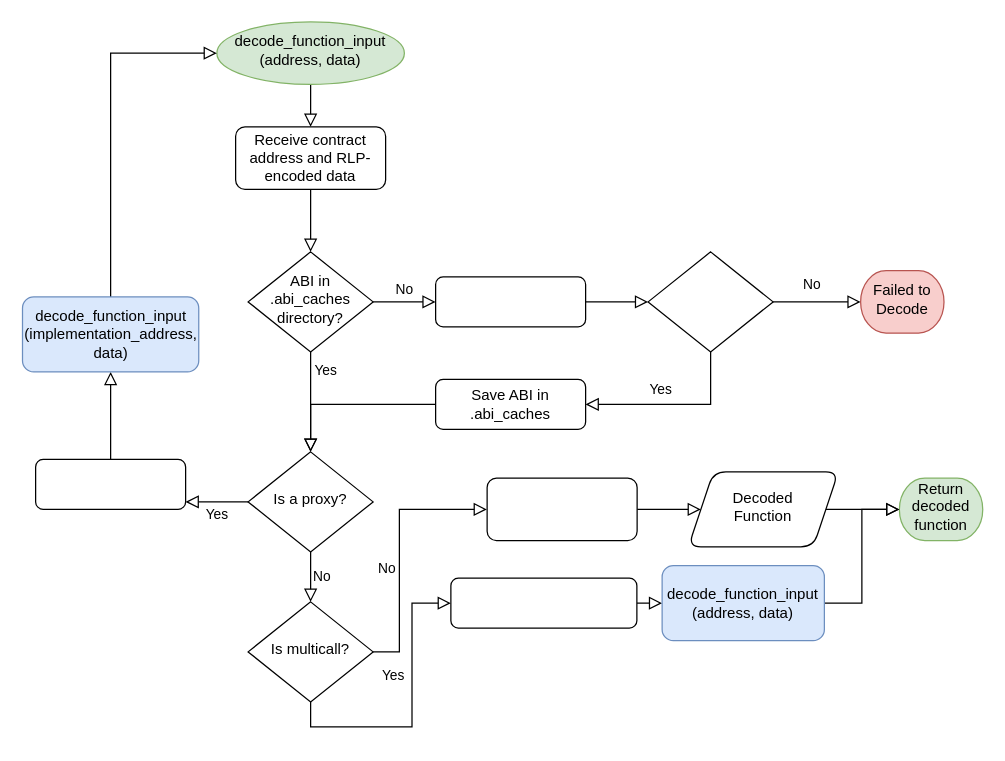
Some shapes in this 1005 by 761 pixel diagram are drawn without their labels. Here are the shapes that lost their labels. From the top down, the centre of each, then its label:
the point at 510,301: Try to Download ABI from Block Explorer
the point at 710,301: Download successful?
the point at 110,483: Get Implementation Address
the point at 561,509: Decode RLP using ABI (abi, data)
the point at 543,602: For each call (call_address, call_data)
